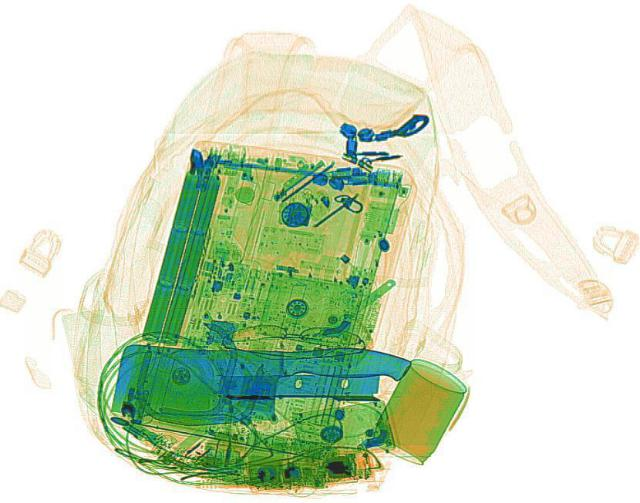Knife: (106, 328, 412, 440)
